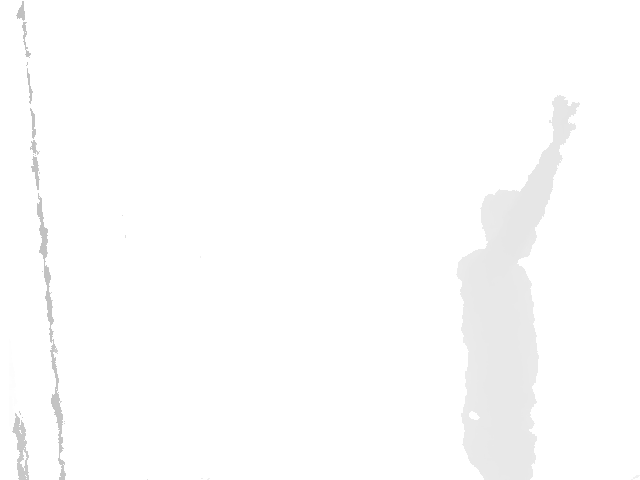hand: (549, 95, 580, 149)
head: (480, 188, 536, 260)
person: (456, 96, 581, 480)
